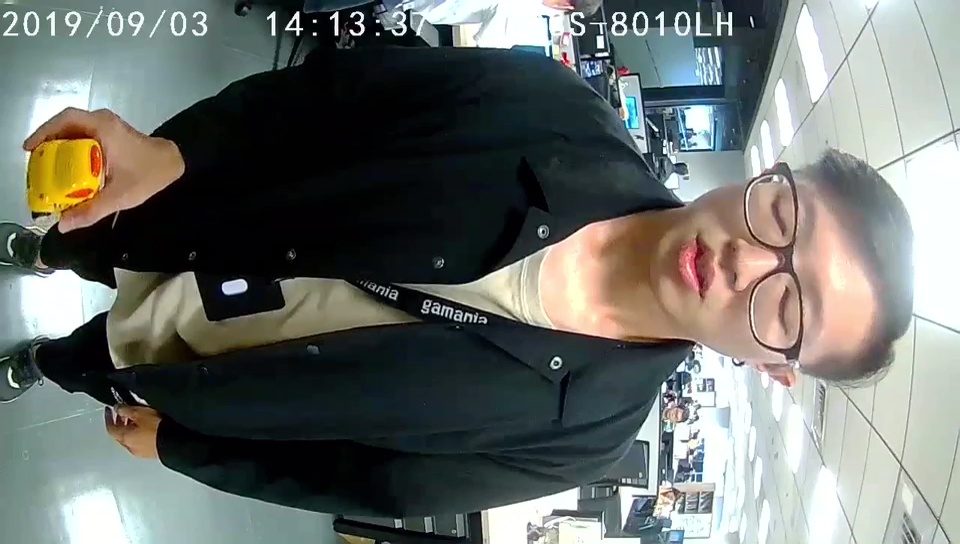car: (27, 139, 102, 213)
